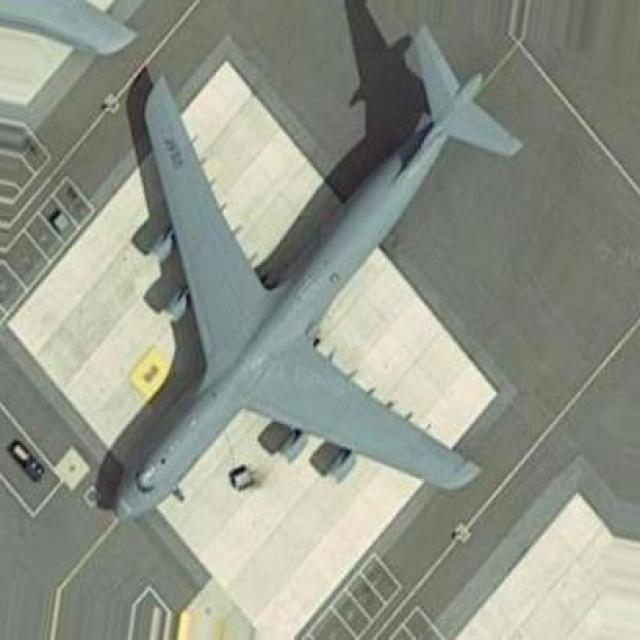C-5_TopDown: (94, 0, 524, 534)
